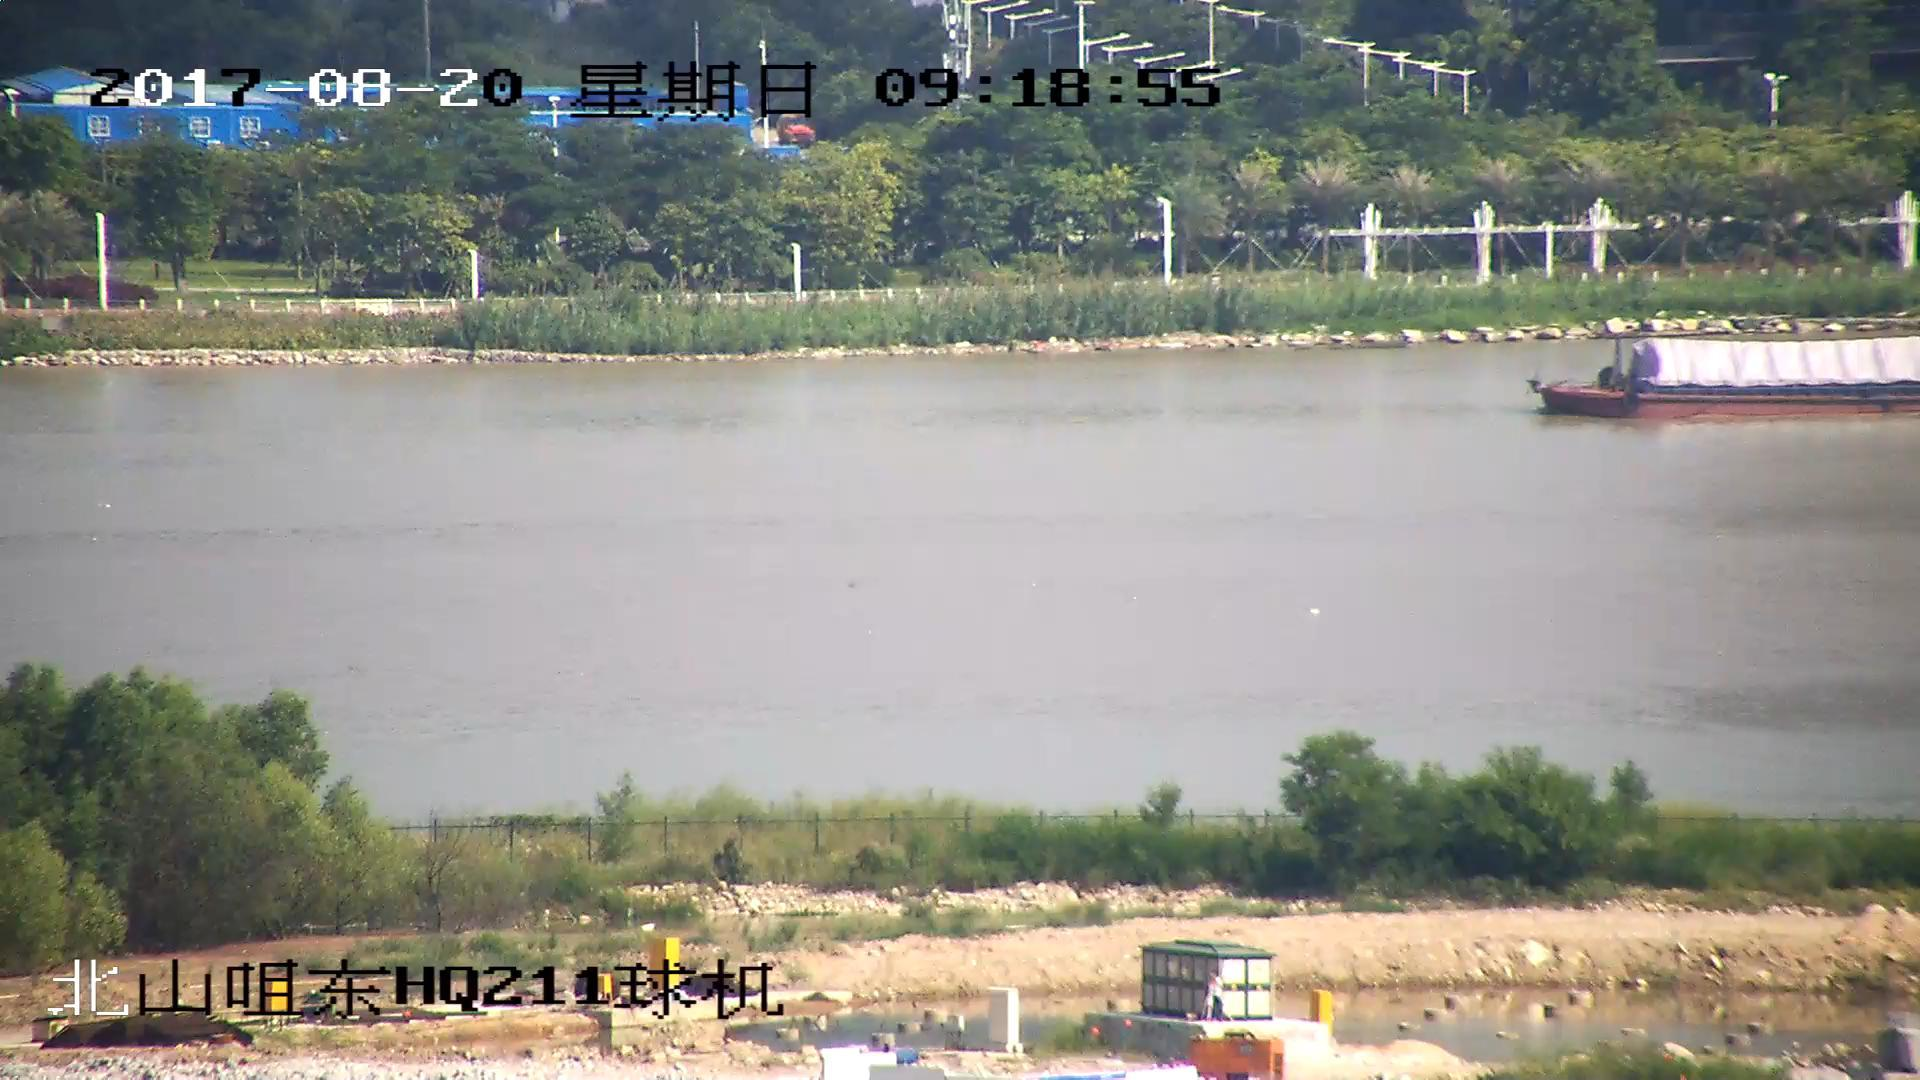Ship: (1532, 339, 1920, 429)
